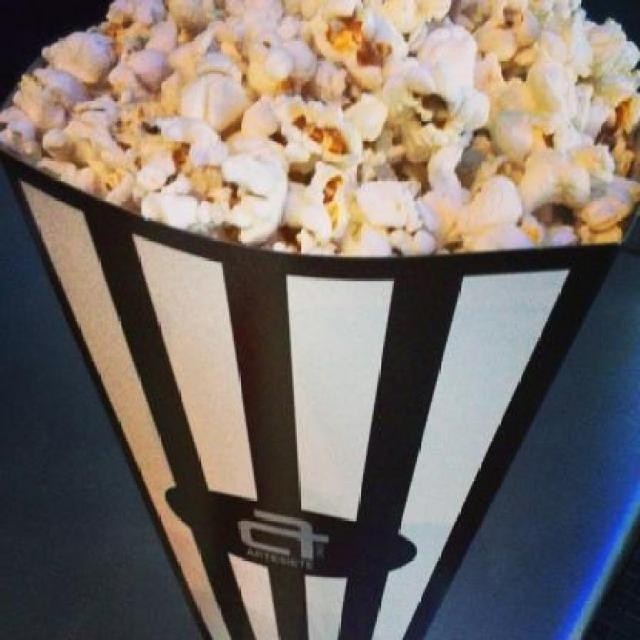Popcorn: (0, 0, 638, 254)
